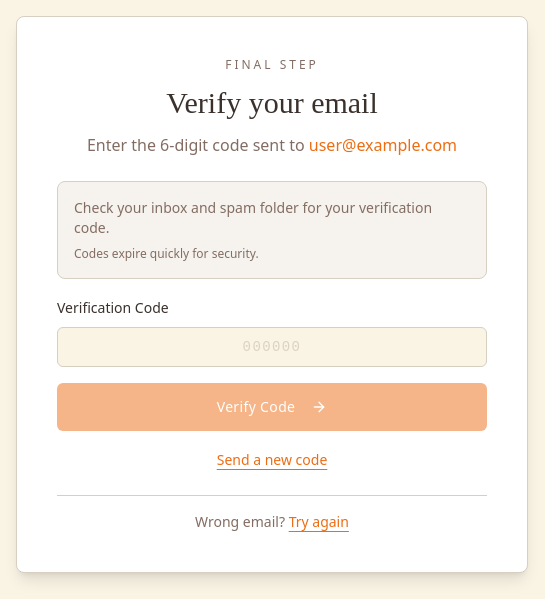
Test: CheckEmailPage › keeps the verify button disabled until 6 digits are entered
This screenshot has width=545, height=599.
Expected: the button "Verify Code" is disabled, top-left (57, 382), bottom-right (487, 430)
In the field labelled "Verification Code": (272, 346) top-left (57, 326), bottom-right (487, 366), type "12345"
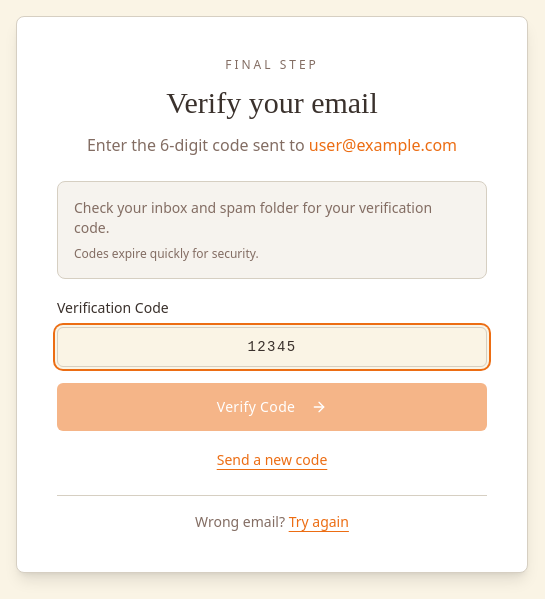
Expected: the button "Verify Code" is disabled, top-left (57, 382), bottom-right (487, 430)
In the field labelled "Verification Code": (272, 346) top-left (57, 326), bottom-right (487, 366), type "6"
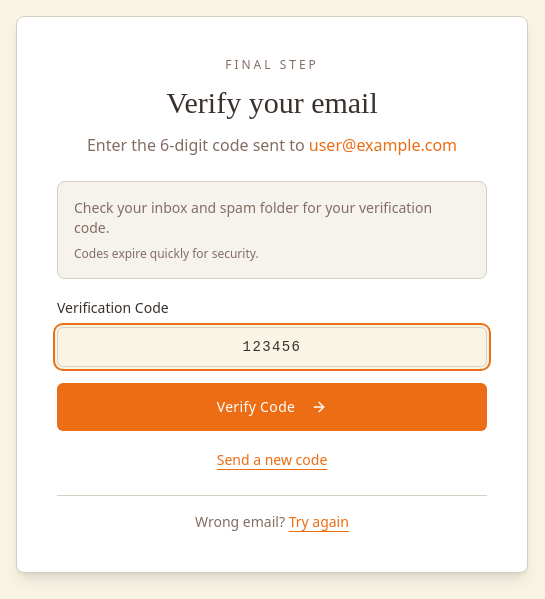
Now the button "Verify Code" is enabled, box top-left (57, 382), bottom-right (487, 430)
